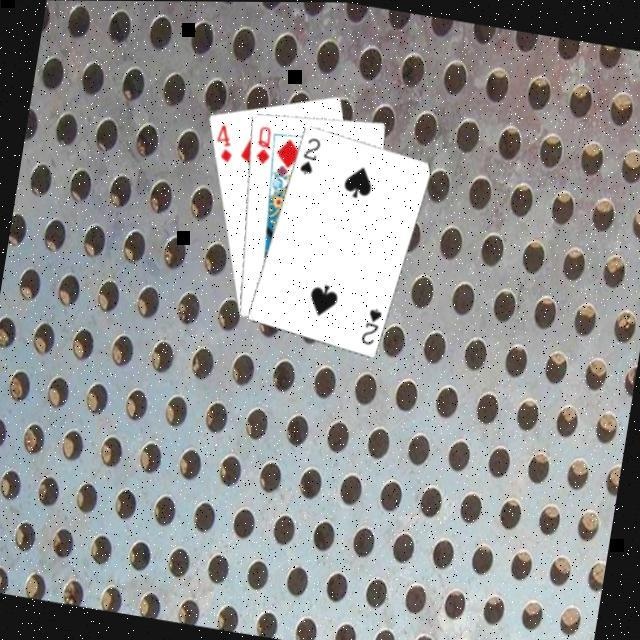2S: (358, 304, 387, 351), (297, 134, 325, 180)
4D: (211, 121, 241, 168)
QD: (252, 124, 278, 170)
